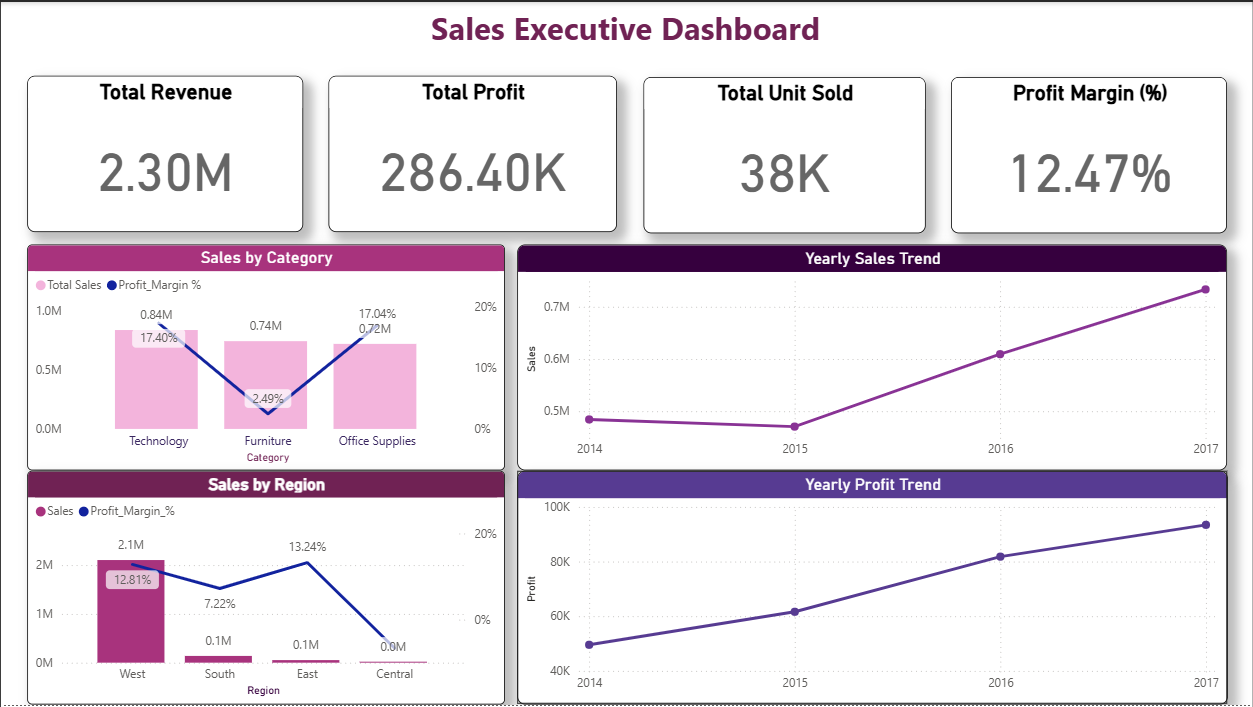

The page's visual inventory and layout, read from the dashboard file:
{"tool":"powerbi","page":{"name":"Executive overview","canvas":[1280,720],"ordinal":0},"visuals":[{"type":"card","title":"Total Revenue","fields":{"Values":["warehouse vw_Sales_Overview.Sales sum"]},"box":[26.9,75.5,282.7,159.9],"z":0},{"type":"card","title":"Total Profit","fields":{"Values":["Sum(warehouse vw_Sales_Overview.Total_Profit)"]},"box":[335.2,75.5,295.5,159.9],"z":1000},{"type":"card","title":"Total Unit Sold","fields":{"Values":["Sum(warehouse vw_Sales_Overview.Total_Quantity)"]},"box":[657.5,76.8,289.1,159.9],"z":2000},{"type":"card","title":"Profit Margin (%)","fields":{"Values":["warehouse vw_Sales_Overview.Profit Margin %"]},"box":[972.2,76.8,282.7,159.9],"z":3000},{"type":"lineStackedColumnComboChart","title":" Sales by Category","fields":{"Category":["warehouse vw_Sales_By_Category.Category"],"Y":["warehouse vw_Sales_By_Category.Total Sales"],"Y2":["warehouse vw_Sales_By_Category.Profit_Margin %"]},"box":[26.9,248.2,488.7,231.5],"z":4000},{"type":"lineStackedColumnComboChart","title":"Sales by Region","fields":{"Category":["warehouse vw_Sales_By_Region.Region"],"Y":["warehouse vw_Sales_By_Region.Sales"],"Y2":["warehouse vw_Sales_By_Region.Profit_Margin_%"]},"box":[26.9,479.7,488.7,239.2],"z":5000},{"type":"lineChart","title":"Yearly Sales Trend","fields":{"Category":["warehouse vw_Monthly_Sales_Trend.Year"],"Y":["Sum(warehouse vw_Monthly_Sales_Trend.Monthly_Sales)"]},"box":[528.3,248.2,726.6,231.5],"z":6000},{"type":"textbox","box":[434.9,0,456.7,55],"z":7000},{"type":"lineChart","title":"Yearly Profit Trend","fields":{"Category":["warehouse vw_Monthly_Sales_Trend.Year"],"Y":["warehouse vw_Monthly_Sales_Trend.profit total"]},"box":[528,480,727,239],"z":8000}]}

Visuals, with their boxes in screenshot pixels (x1, y1, x2, y2), scaled from the page's 1280x720 canvas onto the 1253x707 screenshot:
"Total Revenue" card: l=26, t=74, r=303, b=231
"Total Profit" card: l=328, t=74, r=617, b=231
"Total Unit Sold" card: l=644, t=75, r=927, b=232
"Profit Margin (%)" card: l=952, t=75, r=1228, b=232
" Sales by Category" lineStackedColumnComboChart: l=26, t=244, r=505, b=471
"Sales by Region" lineStackedColumnComboChart: l=26, t=471, r=505, b=706
"Yearly Sales Trend" lineChart: l=517, t=244, r=1228, b=471
textbox: l=426, t=0, r=873, b=54
"Yearly Profit Trend" lineChart: l=517, t=471, r=1229, b=706
